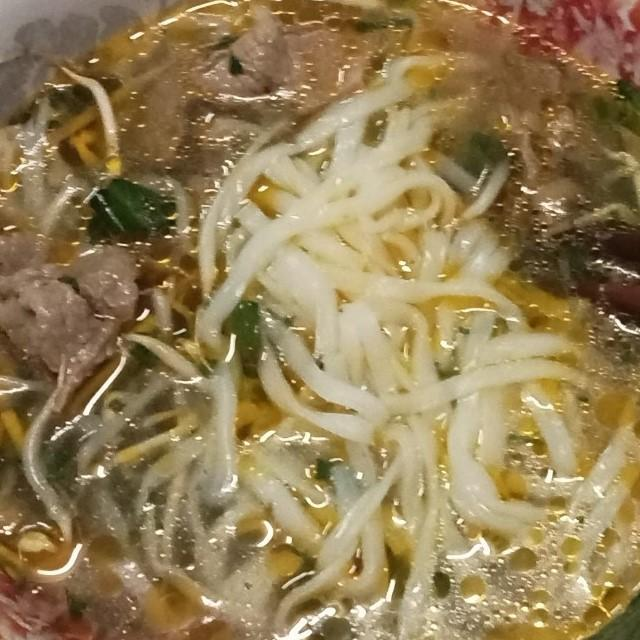banh pho: (238, 259, 640, 640), (188, 45, 523, 348)
pho bo: (0, 0, 640, 640)
thit bo: (0, 216, 146, 419), (178, 5, 397, 130)
